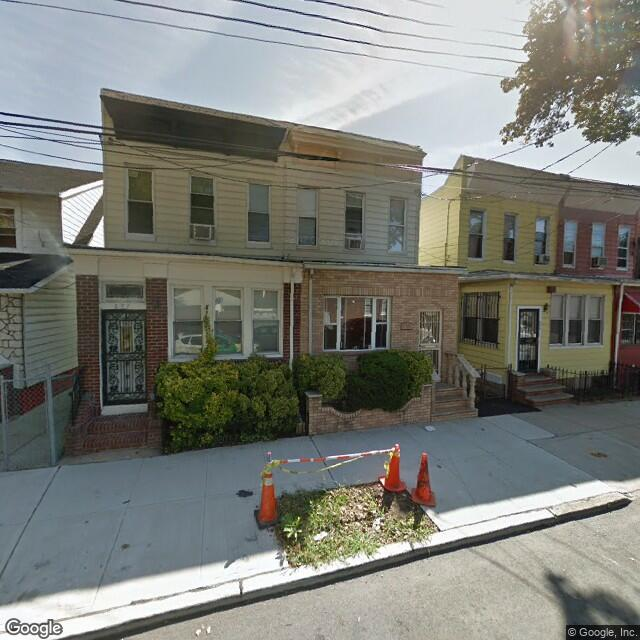litter: (421, 425, 438, 434), (195, 627, 212, 635)
